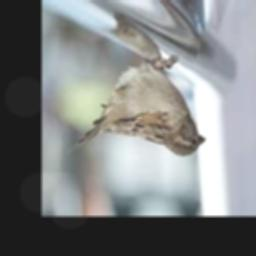Sparrow: (73, 55, 205, 155)
